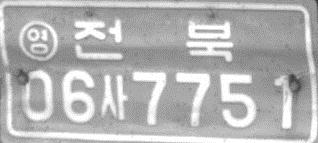0: (20, 69, 55, 122)
1: (268, 74, 302, 129)
5: (218, 73, 256, 127)
6: (60, 69, 96, 123)
7: (175, 72, 211, 128), (132, 70, 167, 125)
사: (99, 74, 128, 120)
영: (18, 19, 59, 62)
전북_D: (71, 19, 234, 62)
